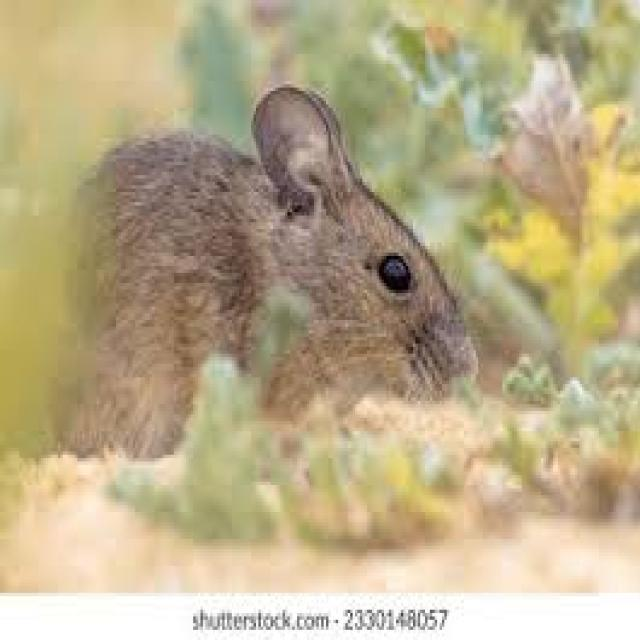Rat: (51, 76, 493, 502)
